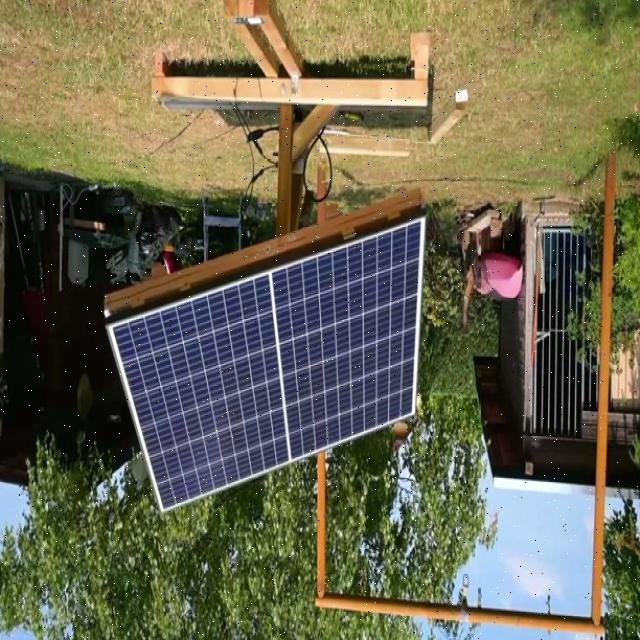Normal Solar Panel: (107, 218, 426, 512)
